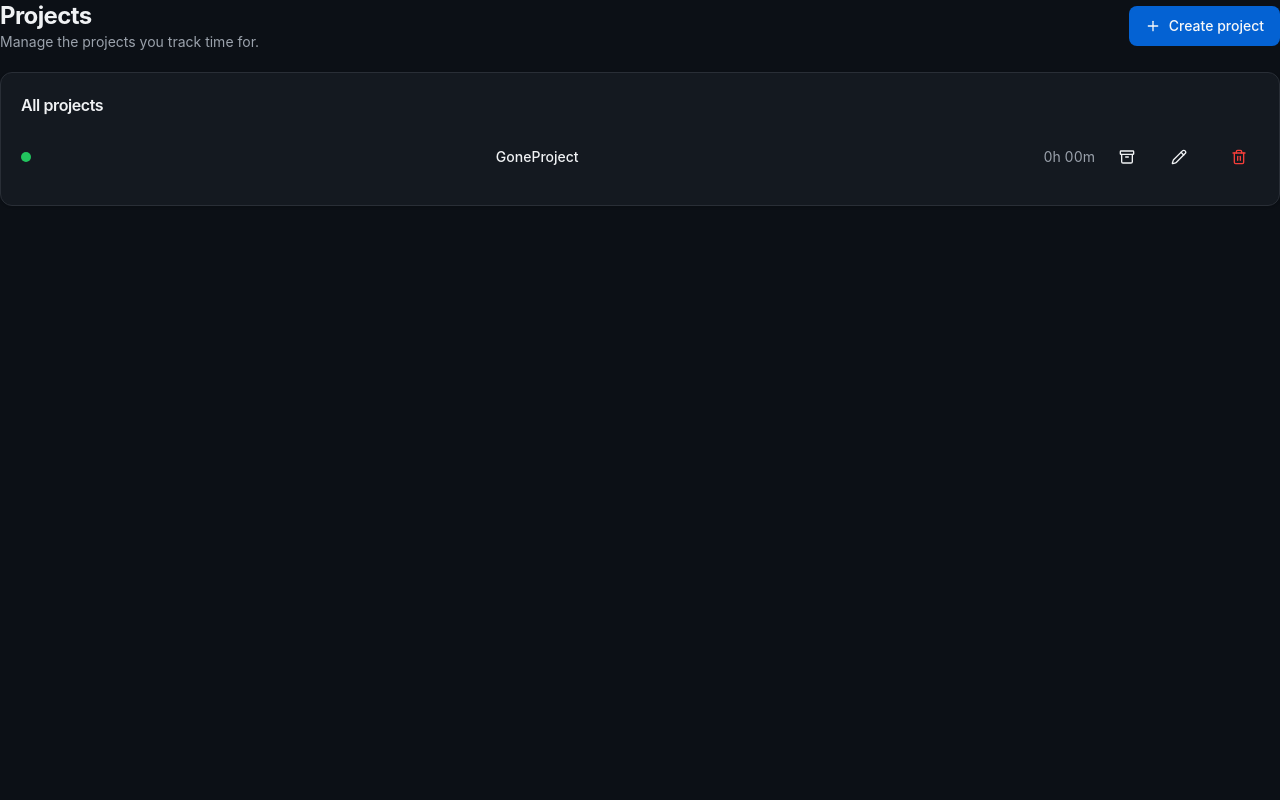
Test case: ProjectsPage › deletes a project after confirmation
The image size is (1280, 800).
Expected: the button "GoneProject" is shown, left=43, top=137, right=1032, bottom=177
Click the button named "delete goneproject" at (1239, 157), box left=1219, top=137, right=1259, bottom=177
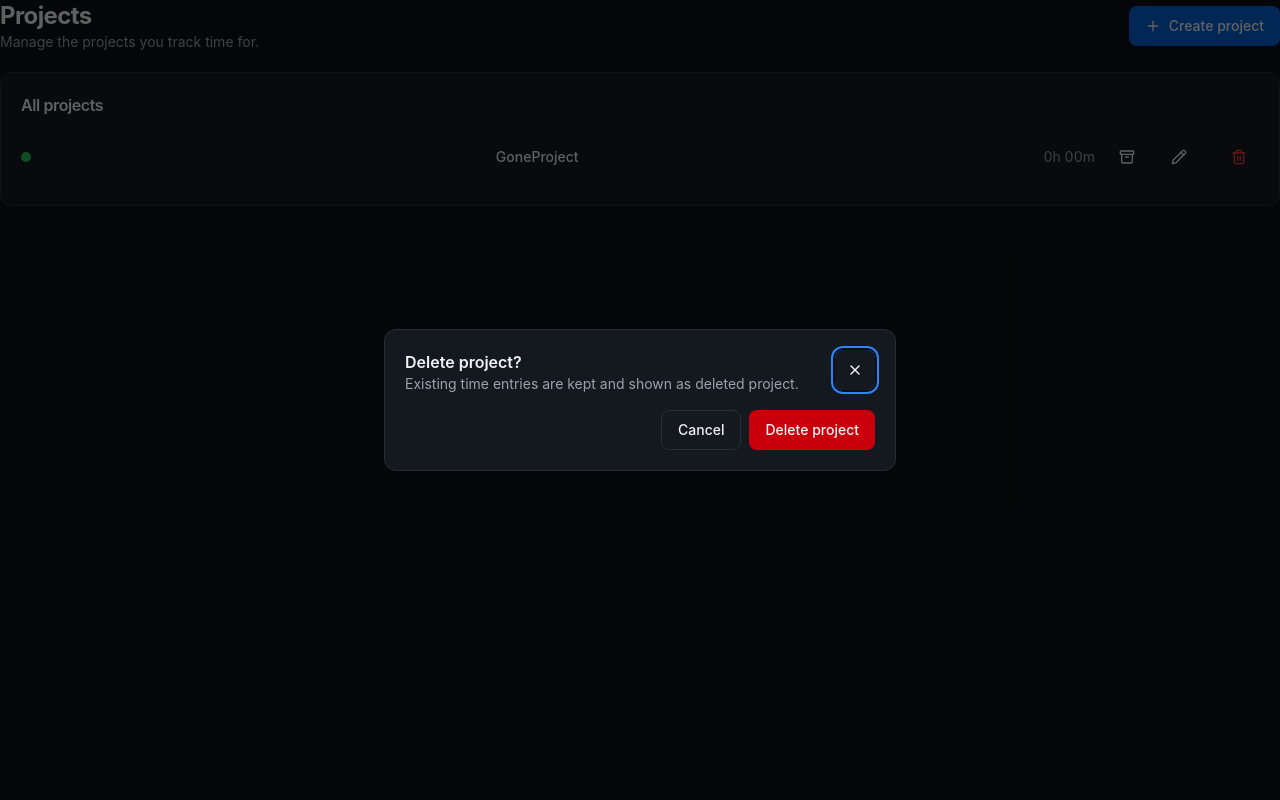
Click the button "Delete project" at (812, 430), box left=750, top=410, right=875, bottom=450
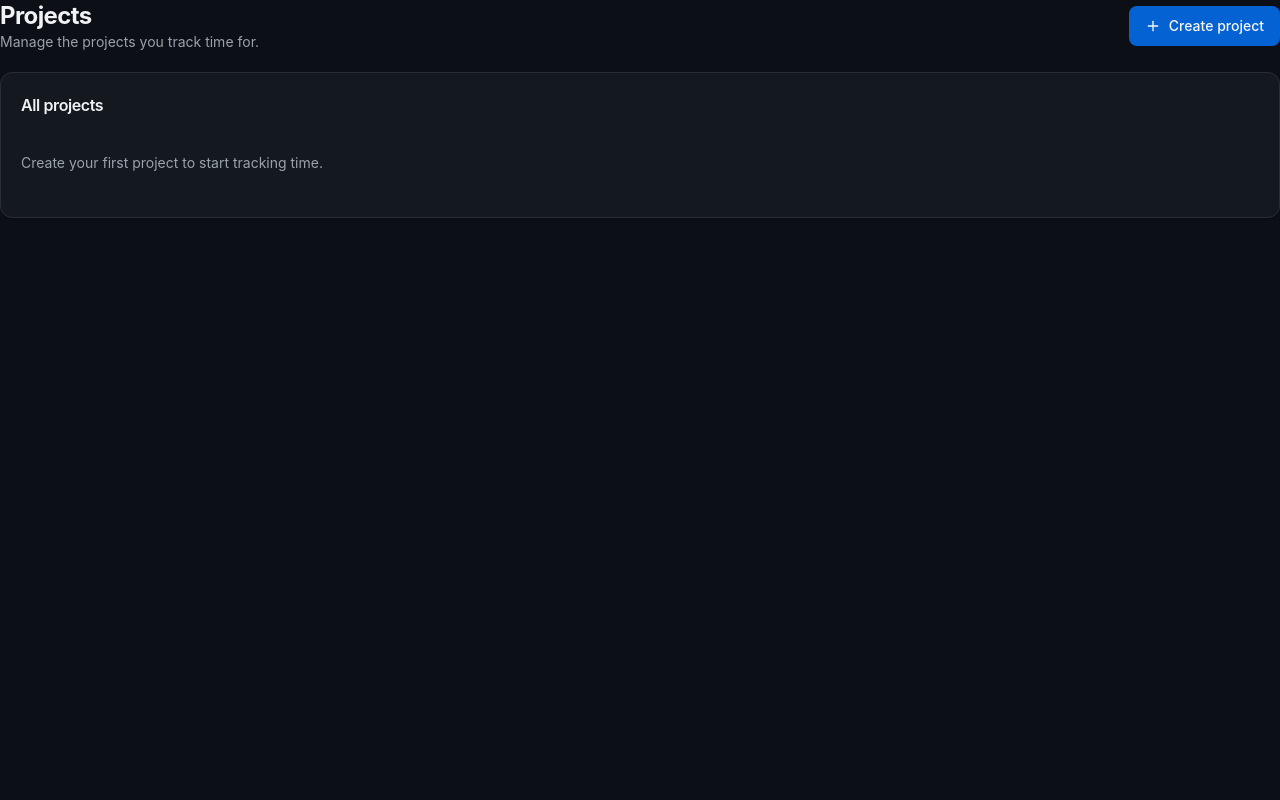
Expected: the button "GoneProject" is gone
